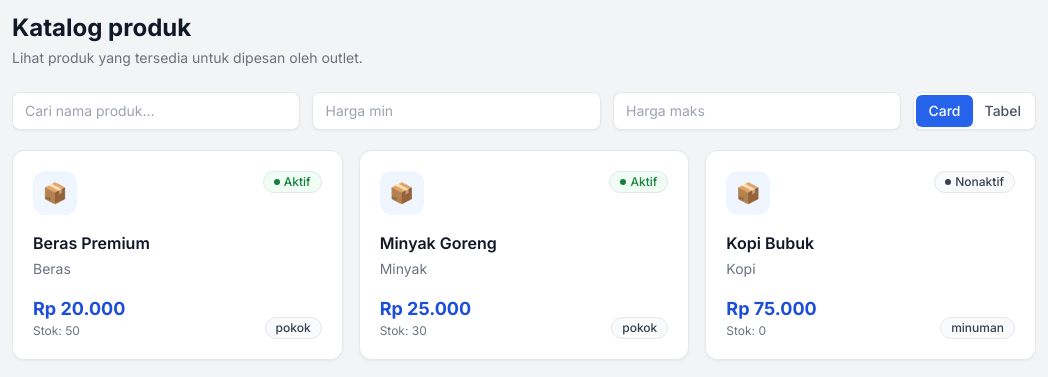
Test: ProductCatalog — view mode + product filters › filters by product name client-side (no refetch)
Expected: the heading "Beras Premium" is shown, [33,233,150,253]
Type "kopi" into the field named "Cari produk" at (156, 111), box [12,92,300,130]
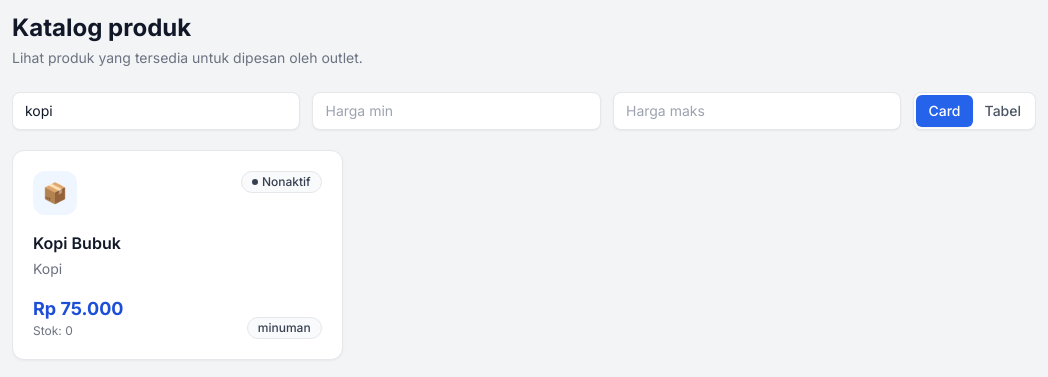
Expected: the heading "Kopi Bubuk" is shown, [33,233,121,253]
Result: the heading "Beras Premium" is gone
